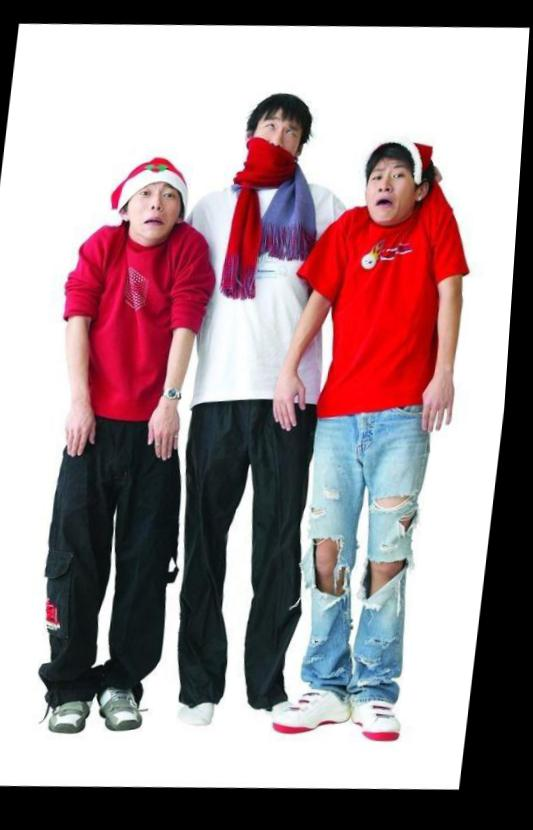NONE: (365, 166, 420, 227), (133, 185, 184, 241)
WRONG: (249, 115, 310, 177)
